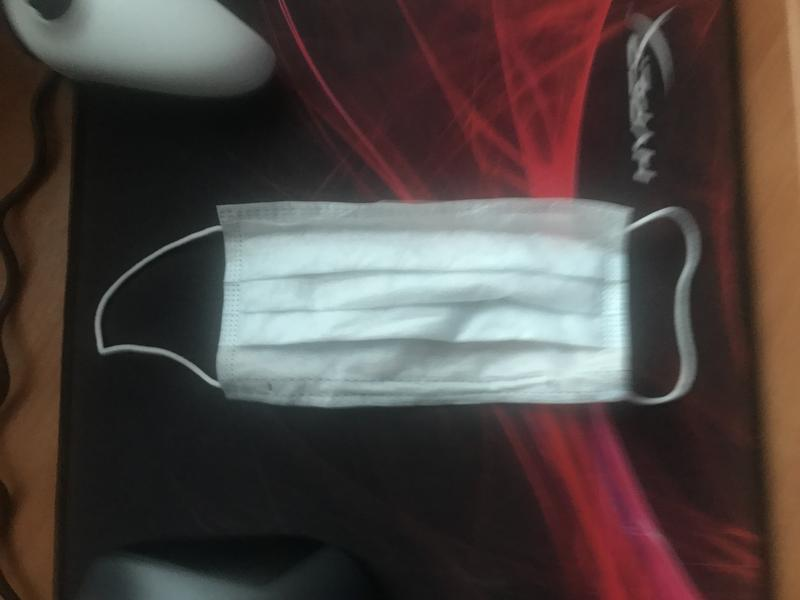medical_mask: (94, 207, 698, 407)
